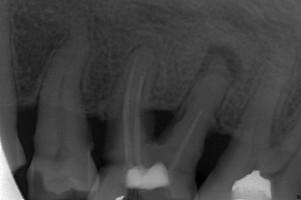Endo-Periodontal Lesion: (145, 108, 178, 145)
Furcation Involvement: (183, 43, 243, 101)
